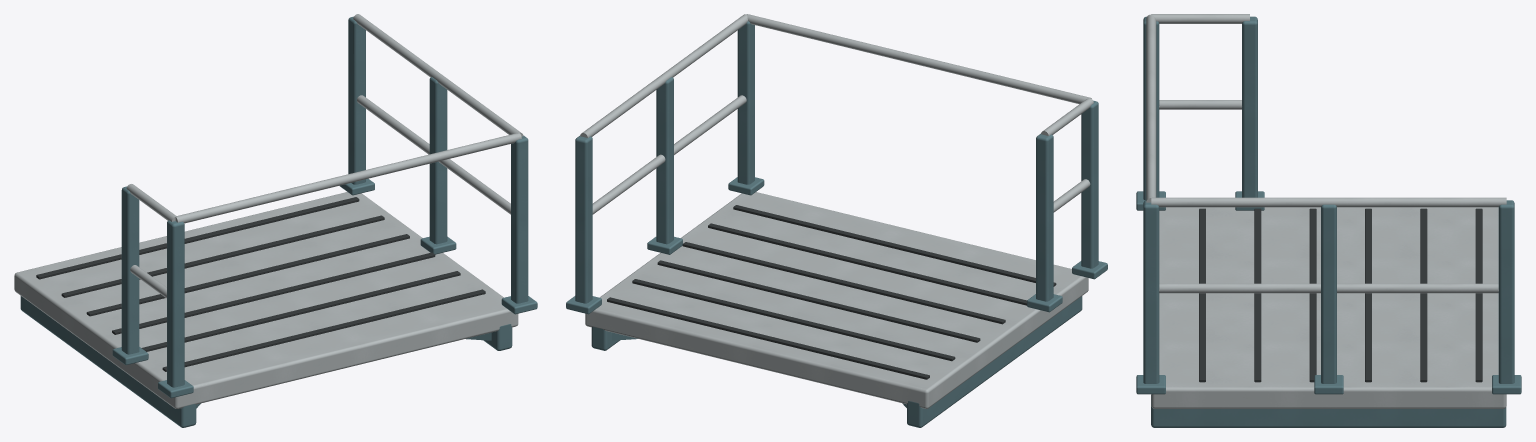
Rendered from gorgehold-survivor-gallery-and-operations-cantilever-w-e1901e84__32877.glb.
The picture shows the model from 3 angles, left to right: view 1: azimuth 30°, elevation 25°; view 2: azimuth 150°, elevation 25°; view 3: azimuth 270°, elevation 25°; orthographic projection. The views are drawn at different scales.
Visible parts, largest first — view 1: cantilever-walkway-end-landing; view 2: cantilever-walkway-end-landing; view 3: cantilever-walkway-end-landing.
Boxes of the visible parts, x1=… form: cantilever-walkway-end-landing: x1=14, y1=14, x2=537, y2=427; cantilever-walkway-end-landing: x1=566, y1=14, x2=1107, y2=427; cantilever-walkway-end-landing: x1=1136, y1=14, x2=1521, y2=427.
Size of the model in its own units: 2.35 by 1.31 by 1.95.
Materials: 3 (2 with a texture image).
